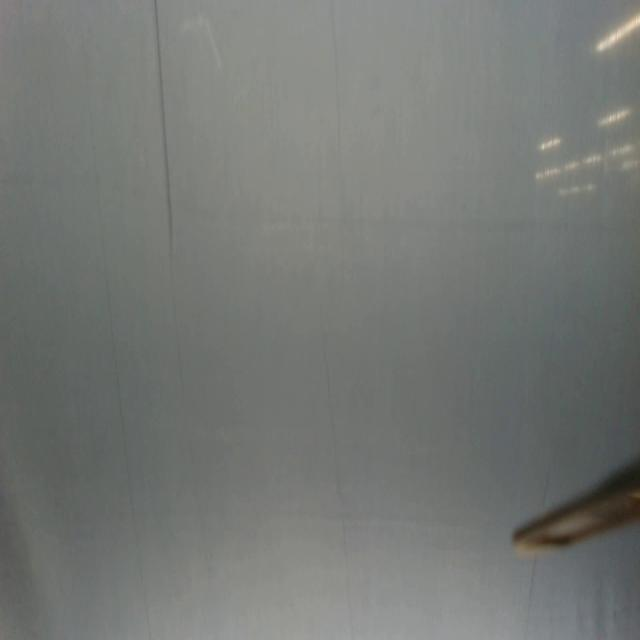crease: (97, 228, 154, 640), (317, 342, 356, 640), (150, 0, 177, 271), (327, 0, 343, 169), (522, 558, 539, 640)
